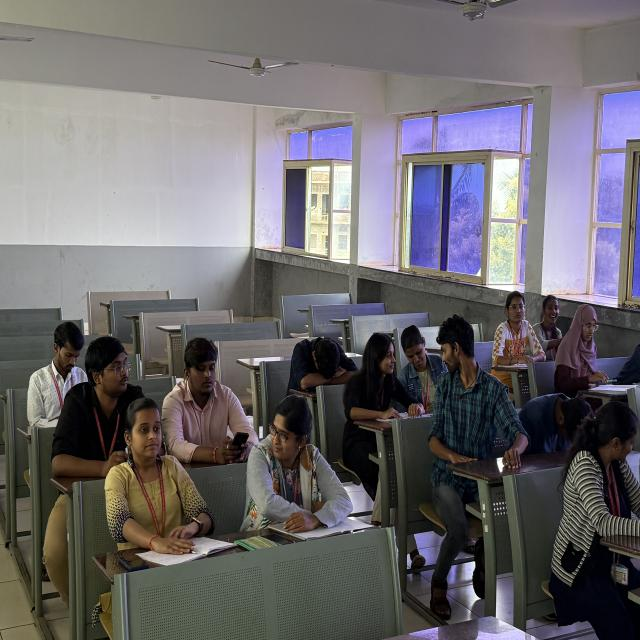Sleeping: (274, 327, 369, 412), (524, 388, 598, 462)
Using Phone: (169, 341, 274, 467)
Writing: (558, 303, 636, 400)
